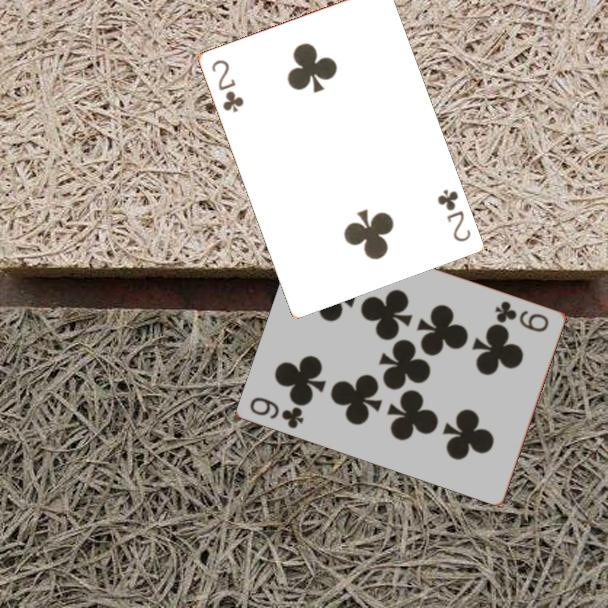c02: (433, 185, 473, 244), (208, 56, 246, 115)
c09: (492, 297, 552, 335), (247, 393, 307, 431)
